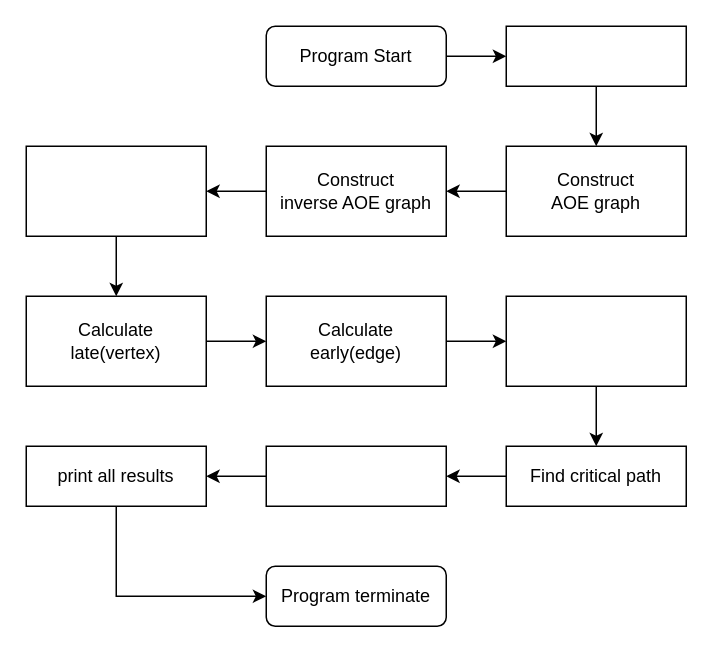
The diagram is 713 pixels wide and 653 high, and some of its shapes have lost their labels. The centre of each missing label's shape, as x and y in pixels:
"Calculate early(vertex)" goes at (115,190).
"Calculate late(edge)" goes at (595,340).
"Read input file" goes at (595,55).
"sort the critical path" goes at (355,475).
